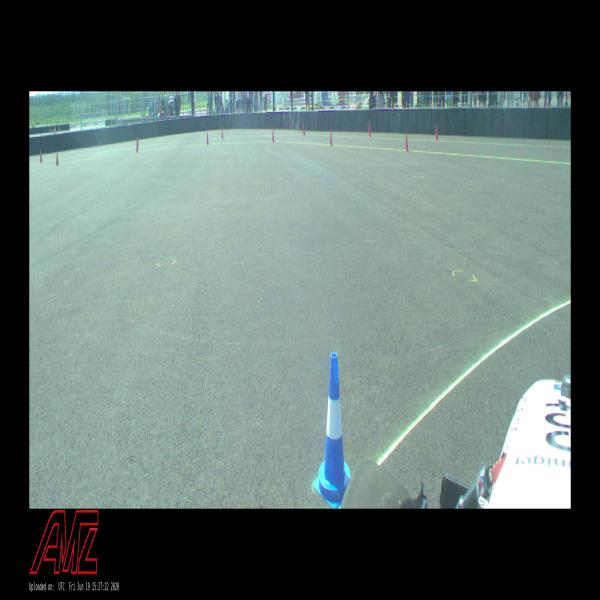blue_cone: (313, 354, 352, 508)
